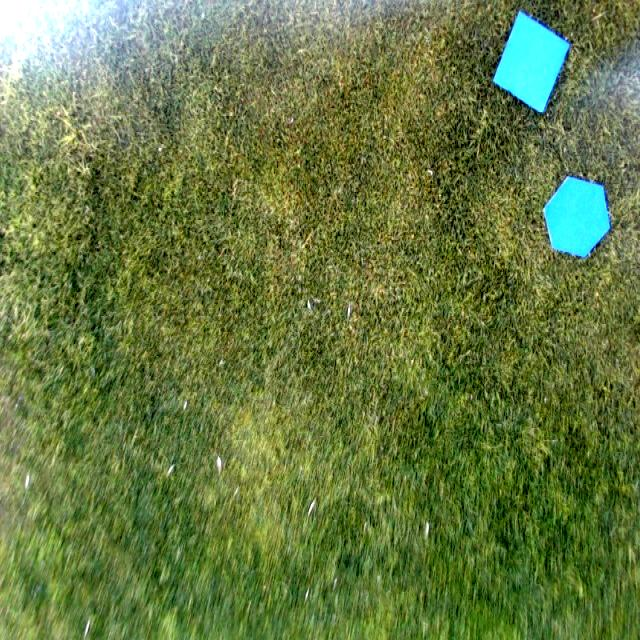blue_hexagon: (542, 175, 610, 262)
blue_square: (492, 11, 570, 114)
